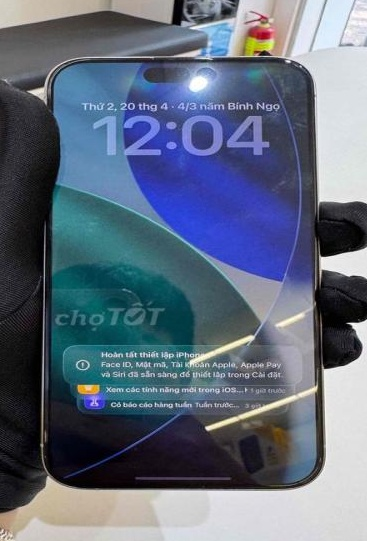scratch: (258, 52, 316, 154)
